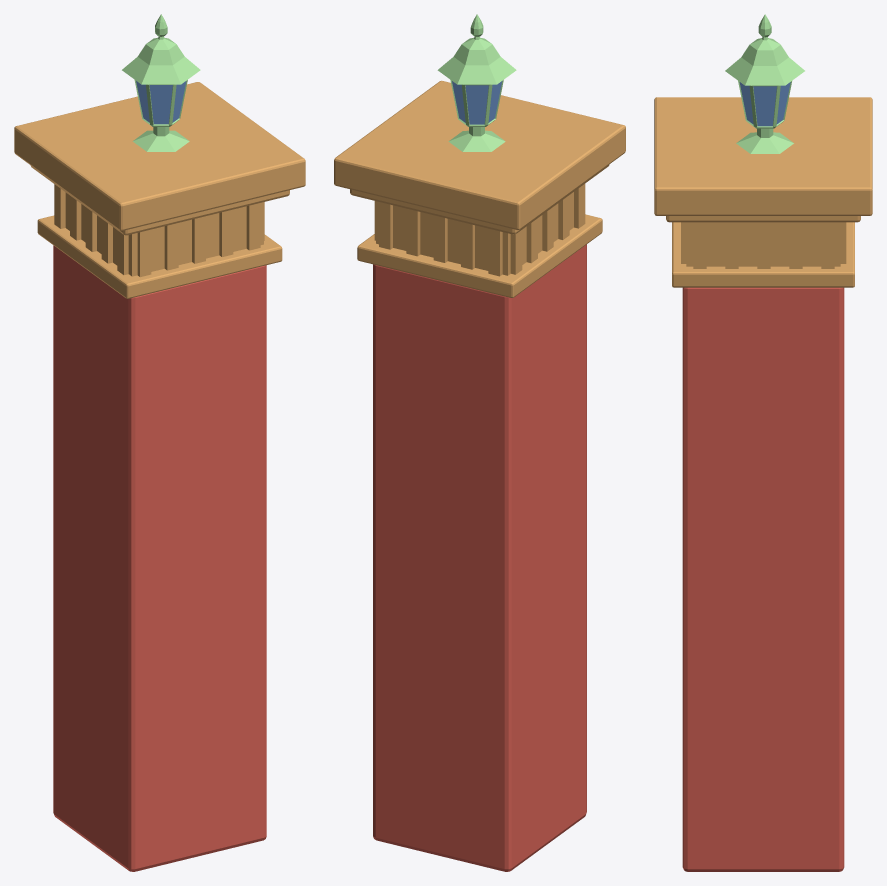
File: sundaigatefbx12.fbx
3 renders of one model, left to right at view 1: azimuth 30°, elevation 25°; view 2: azimuth 150°, elevation 25°; view 3: azimuth 270°, elevation 25°, orthographic.
Visible parts, largest first — view 1: 立方体.002, 立方体.005, 立方体.003, 球, 立方体.006, 立方体.007, 立方体.008, 立方体.004; view 2: 立方体.002, 立方体.005, 立方体.003, 球, 立方体.006, 立方体.007, 立方体.008, 立方体.004; view 3: 立方体.002, 立方体.005, 球, 立方体.003, 立方体.006, 立方体.008, 立方体.004, 立方体.007.
Boxes of the visible parts, bbox=[...] form: 立方体.002: bbox=[53, 245, 266, 871]; 立方体.005: bbox=[14, 82, 305, 230]; 立方体.003: bbox=[37, 215, 282, 298]; 球: bbox=[122, 14, 200, 151]; 立方体.006: bbox=[65, 192, 263, 276]; 立方体.007: bbox=[137, 203, 260, 277]; 立方体.008: bbox=[54, 184, 264, 274]; 立方体.004: bbox=[30, 165, 289, 235]; 立方体.002: bbox=[373, 244, 586, 871]; 立方体.005: bbox=[334, 80, 625, 229]; 立方体.003: bbox=[357, 214, 602, 297]; 球: bbox=[437, 14, 516, 151]; 立方体.006: bbox=[376, 192, 573, 275]; 立方体.007: bbox=[379, 202, 502, 276]; 立方体.008: bbox=[374, 184, 585, 274]; 立方体.004: bbox=[350, 164, 609, 234]; 立方体.002: bbox=[682, 287, 844, 871]; 立方体.005: bbox=[654, 97, 872, 215]; 球: bbox=[725, 14, 804, 153]; 立方体.003: bbox=[672, 222, 854, 287]; 立方体.006: bbox=[686, 222, 840, 266]; 立方体.008: bbox=[693, 222, 834, 268]; 立方体.004: bbox=[666, 216, 860, 222]; 立方体.007: bbox=[681, 222, 846, 263].
Size of the model in its own units: 270 by 1127 by 270.
